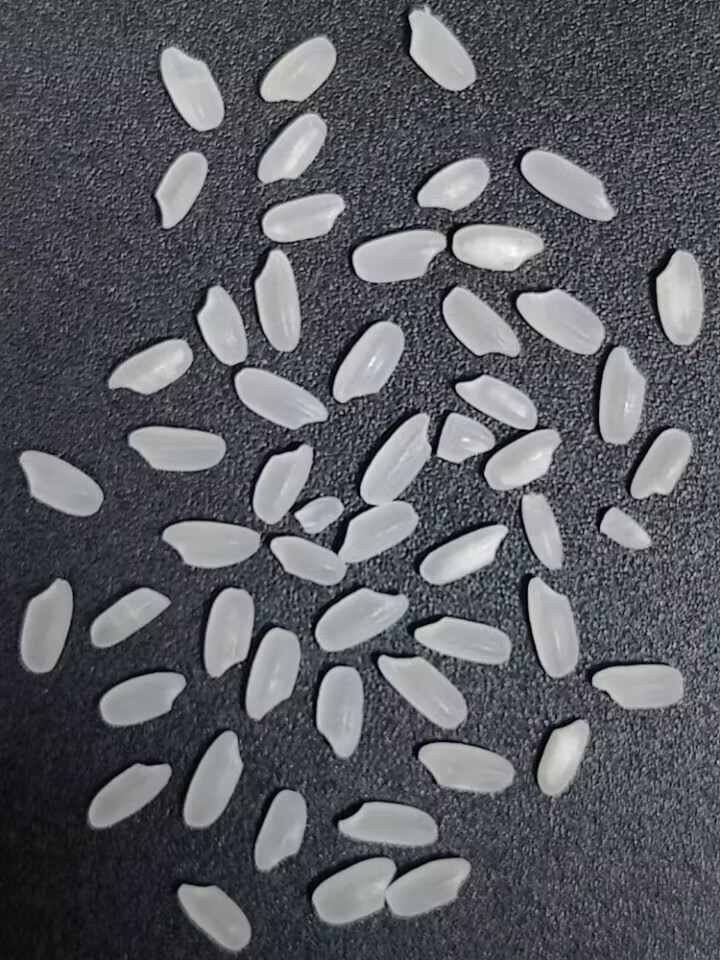broken: (412, 156, 492, 215), (431, 411, 498, 471), (595, 501, 653, 554), (292, 491, 342, 537)
rice: (515, 142, 622, 223), (356, 404, 435, 509), (374, 649, 468, 736), (509, 284, 612, 358), (87, 753, 175, 837), (326, 317, 408, 407), (248, 244, 312, 358), (14, 447, 108, 524), (400, 7, 481, 96), (308, 585, 408, 655), (179, 727, 245, 829), (415, 738, 519, 802), (153, 43, 226, 134), (309, 853, 396, 927), (171, 878, 251, 958), (438, 286, 523, 361), (521, 575, 581, 681), (419, 518, 509, 588), (253, 34, 338, 108), (231, 368, 329, 432), (101, 333, 196, 399), (250, 110, 330, 188), (387, 852, 472, 925), (333, 796, 445, 851), (155, 518, 264, 574), (649, 248, 709, 349), (197, 583, 259, 680), (596, 344, 651, 453), (347, 228, 450, 286), (246, 441, 319, 522), (413, 611, 516, 668), (243, 628, 303, 723), (450, 370, 546, 429), (253, 783, 312, 878), (485, 426, 567, 494), (88, 587, 170, 654), (98, 669, 187, 730), (23, 573, 74, 679), (149, 147, 210, 235), (312, 661, 365, 762), (124, 424, 232, 473), (337, 497, 418, 562), (623, 426, 694, 500), (586, 663, 689, 714), (447, 220, 545, 273), (530, 717, 595, 796), (264, 535, 352, 590), (195, 284, 249, 372), (255, 190, 346, 242), (521, 491, 568, 575)
